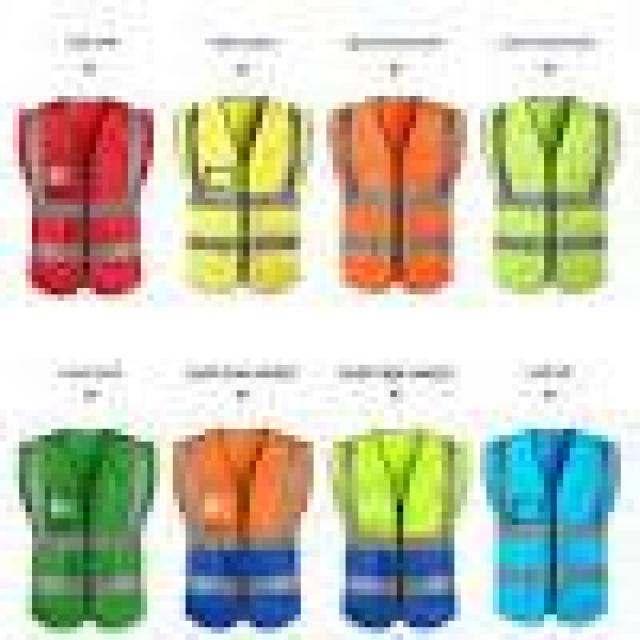Reflective-Jacket: (467, 90, 634, 314)
